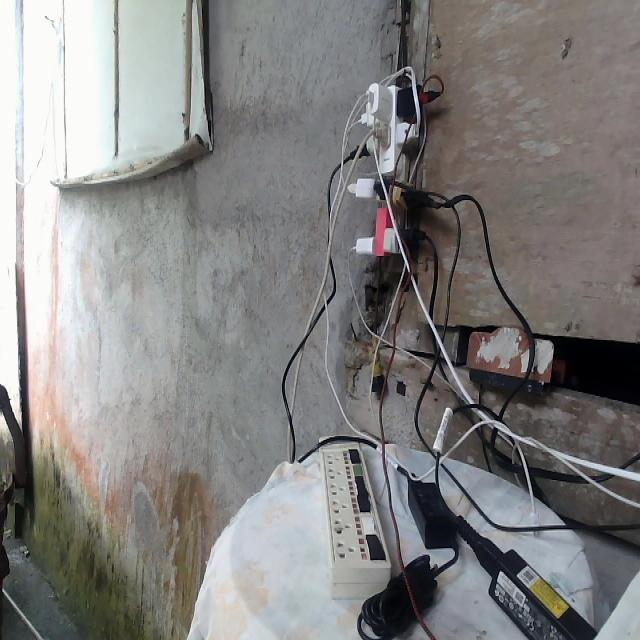-: (342, 73, 427, 259)
